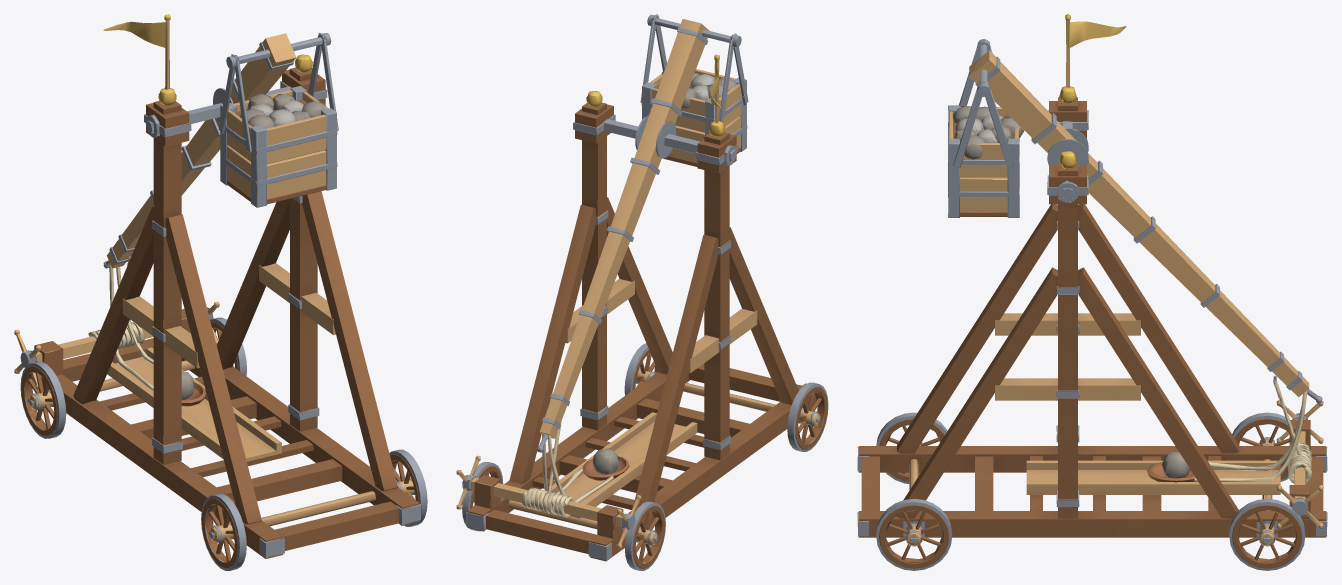
File: trebuchet.glb
3 views of the same model, side by side, from view 1: azimuth 30°, elevation 25°; view 2: azimuth 150°, elevation 25°; view 3: azimuth 270°, elevation 25° (orthographic). The views are drawn at different scales.
Parts seen in each view (by area): view 1: trebuchet_arm; view 2: trebuchet_arm; view 3: trebuchet_arm.
Boxes of the visible parts, x1=… form: trebuchet_arm: x1=14, y1=14, x2=427, y2=570; trebuchet_arm: x1=456, y1=14, x2=828, y2=570; trebuchet_arm: x1=857, y1=14, x2=1327, y2=570.
Bounding box in the file's own units: 3.33 × 7.56 × 6.72.
Materials: 10 (1 with a texture image).
